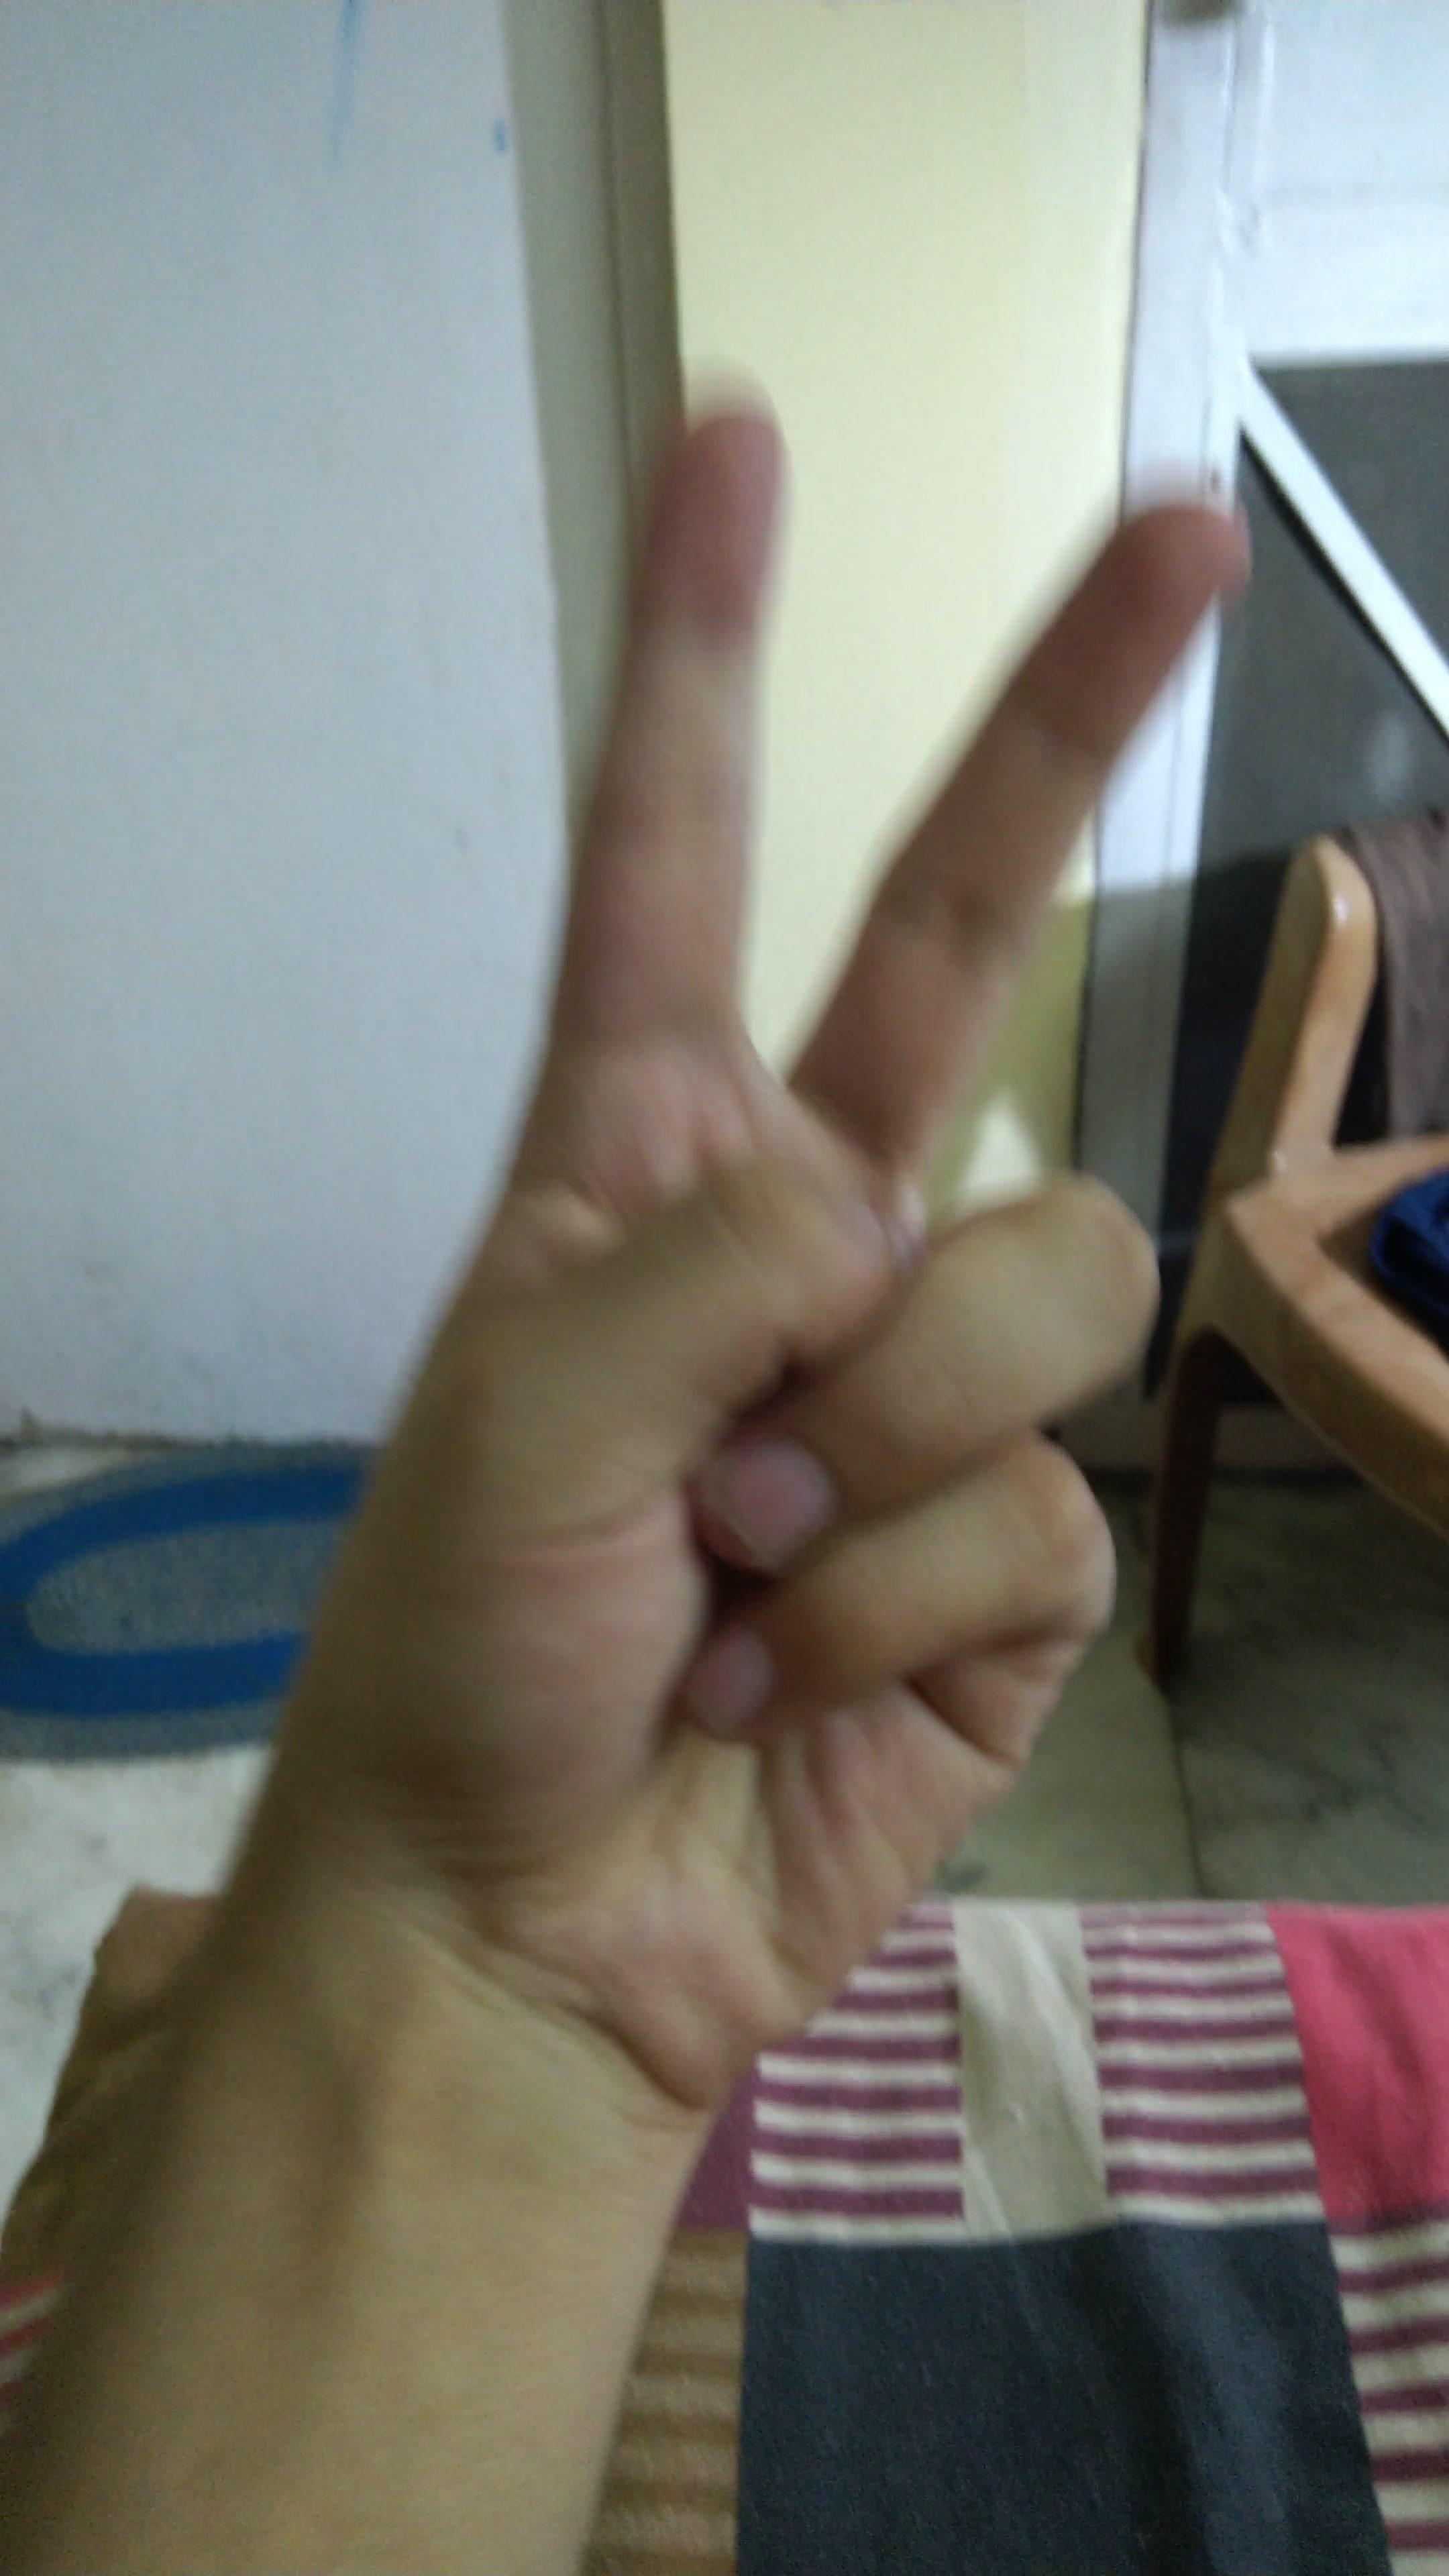hand: (161, 340, 1247, 2098)
